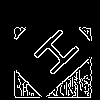H: (24, 26, 83, 84)
